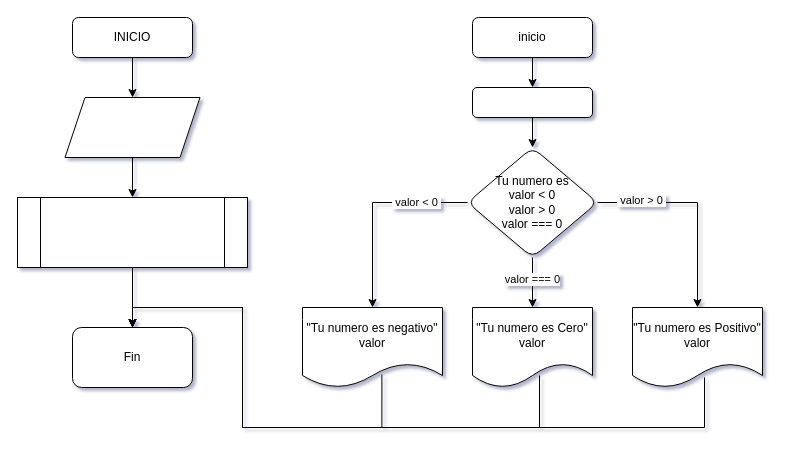
The diagram is 786 pixels wide and 459 high, and some of its shapes have lost their labels. The shapes that lost their labels are listed below. From the top down, each one's centre as x and y in pixels, then its label:
At pixel 532 102: "comprobacion(valor)".
At pixel 132 127: "numeroComprovar".
At pixel 132 232: "comprobacion(numeroComprovar)".
